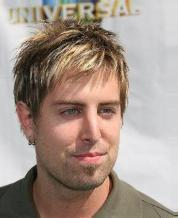face: (56, 99, 116, 165)
